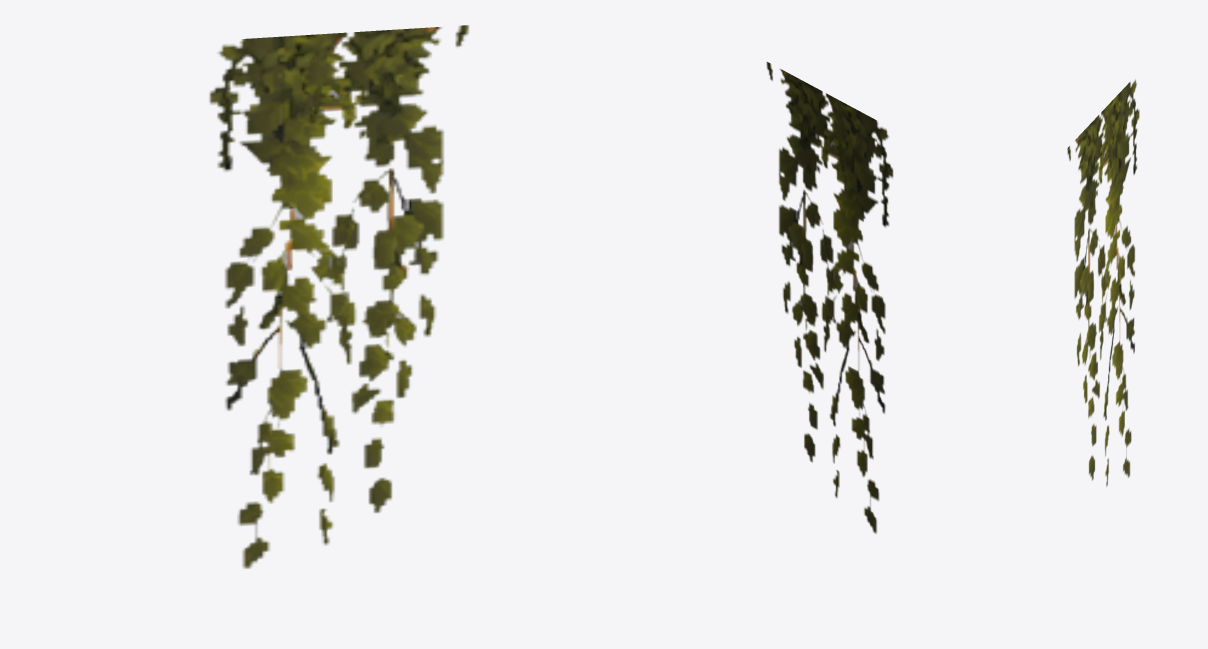
The model's file is GH_1_Ivy_11.gltf.
The picture shows the model from 3 angles, left to right: view 1: azimuth 30°, elevation 25°; view 2: azimuth 150°, elevation 25°; view 3: azimuth 270°, elevation 25°; orthographic projection. The views are drawn at different scales.
Visible parts, largest first — view 1: GH_1_Ivy_11; view 2: GH_1_Ivy_11; view 3: GH_1_Ivy_11.
Part boxes in pixels (x1,y1,x2,y2): GH_1_Ivy_11: [209, 25, 468, 568]; GH_1_Ivy_11: [766, 62, 893, 533]; GH_1_Ivy_11: [1067, 79, 1139, 486].
Bounding box in the file's own units: 3.27 × 3.52 × 1.3.
1 material, 1 textured.
